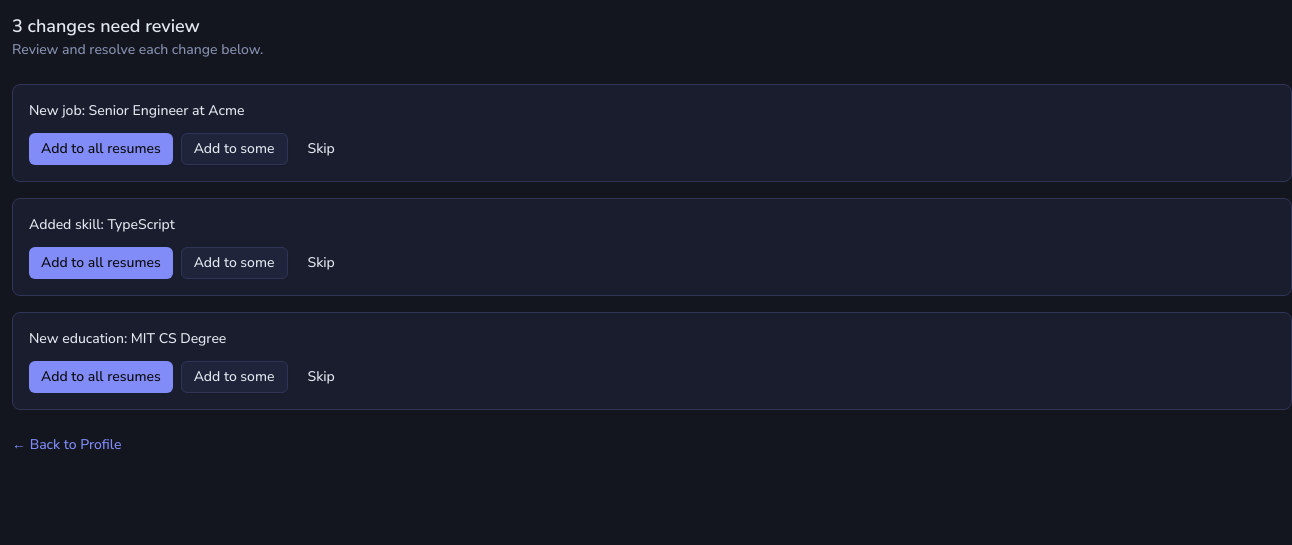
Test: ChangeFlagsResolver › resolution — add to some › collapses checklist on Cancel click
Step 1. Click the button with test id "add-some-1" → (234, 149), box 181,133 -> 288,165
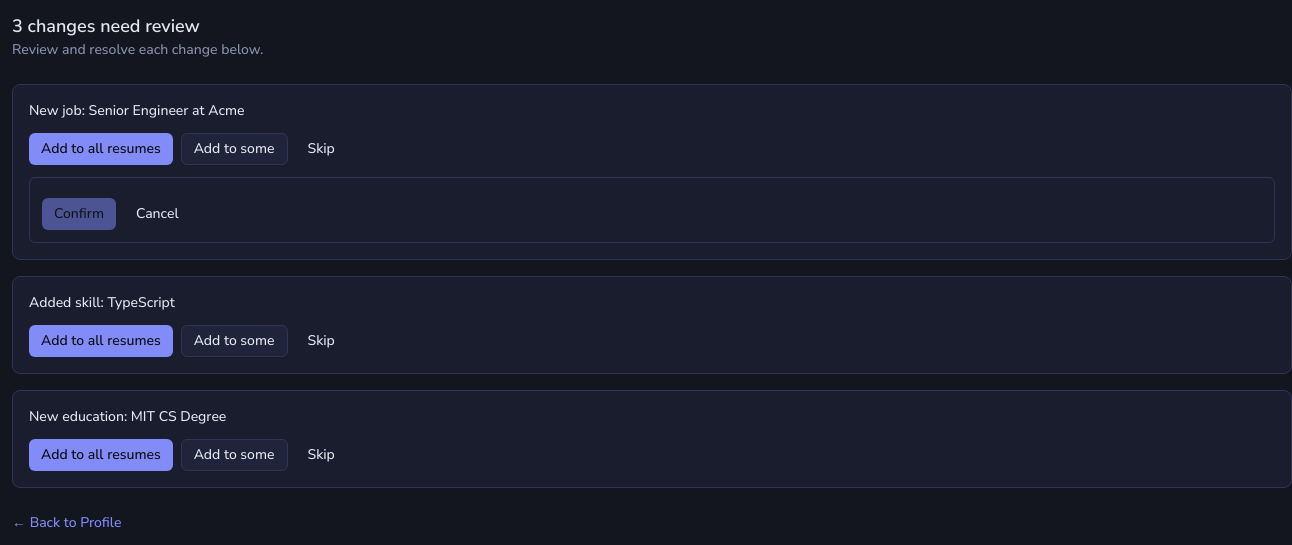
Expected: the element with test id "resume-checklist-1" is shown, 29,177 -> 1275,243
Step 2. Click the button "Cancel" → (157, 214), box 124,198 -> 191,230
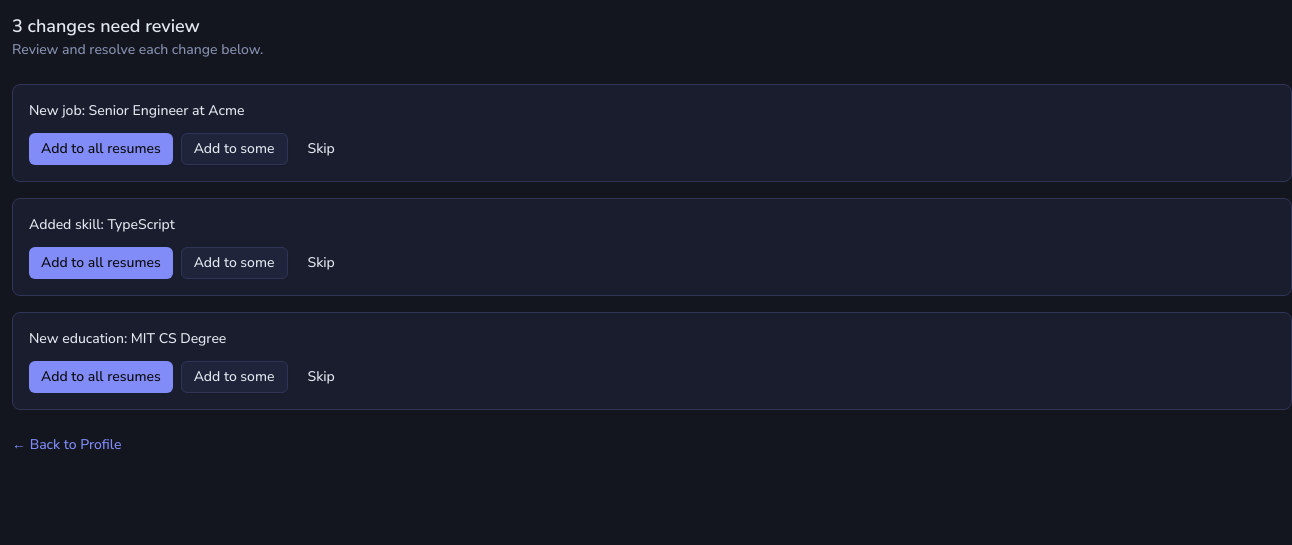
Expected: the element with test id "resume-checklist-1" is gone
